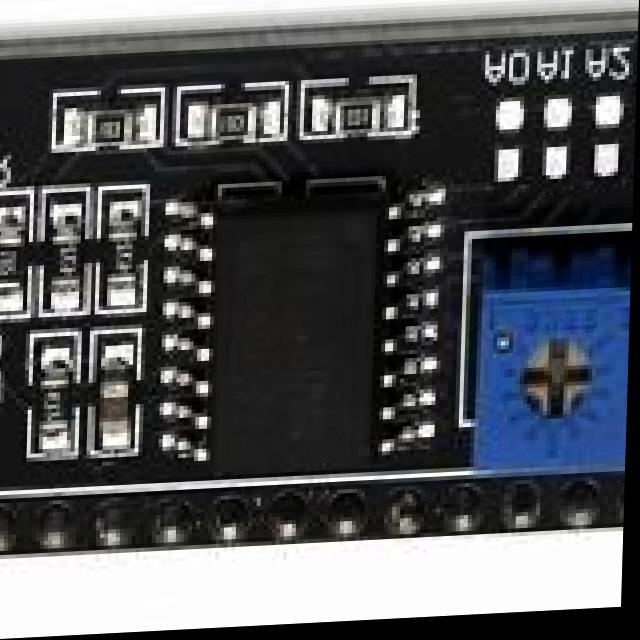IC: (173, 190, 447, 477)
capacitor: (98, 348, 144, 440)
potentiometer: (468, 246, 634, 488)
resistor: (60, 98, 148, 149), (105, 206, 143, 299), (320, 92, 393, 139), (200, 95, 262, 148), (42, 354, 80, 438), (53, 224, 87, 298), (0, 231, 27, 312)
transistor: (0, 320, 5, 416)
